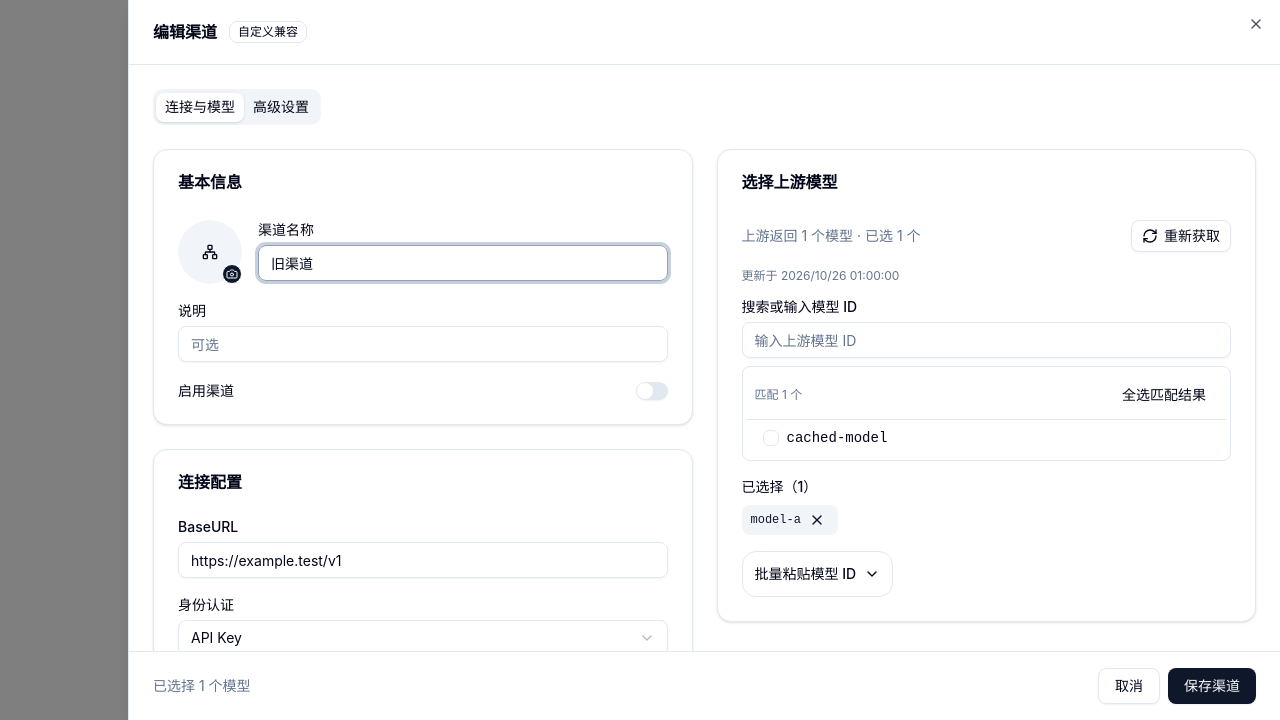
Test: retains cached choices on refresh failure and clears them when credentials change
The image size is (1280, 720).
Click the button "cached-model" at [837, 438], box [746,420,1226,456]
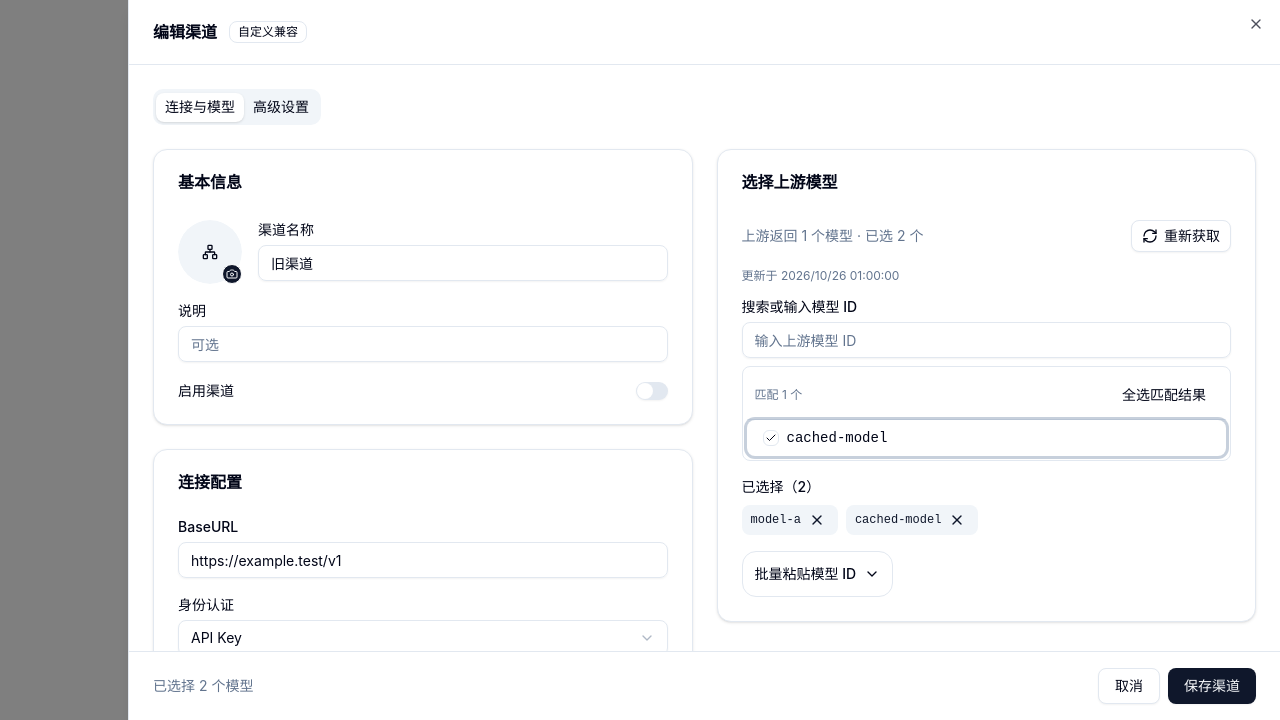
Click the button "重新获取" at [1181, 236], box [1131,220,1231,252]
(page scrolled)
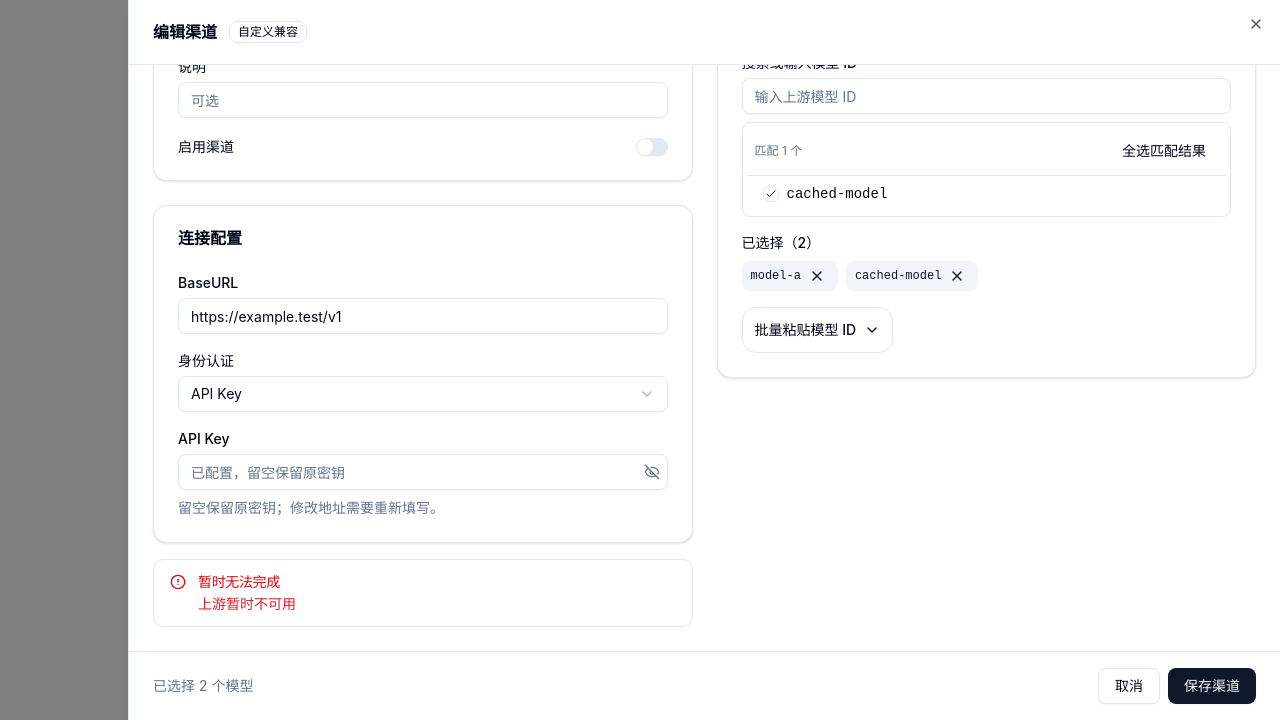
Now the text "上游暂时不可用" is shown, box [198,594,296,614]
Type "new-fixture-key" into the password field labelled "API Key" at [423, 472], box [178,454,668,490]
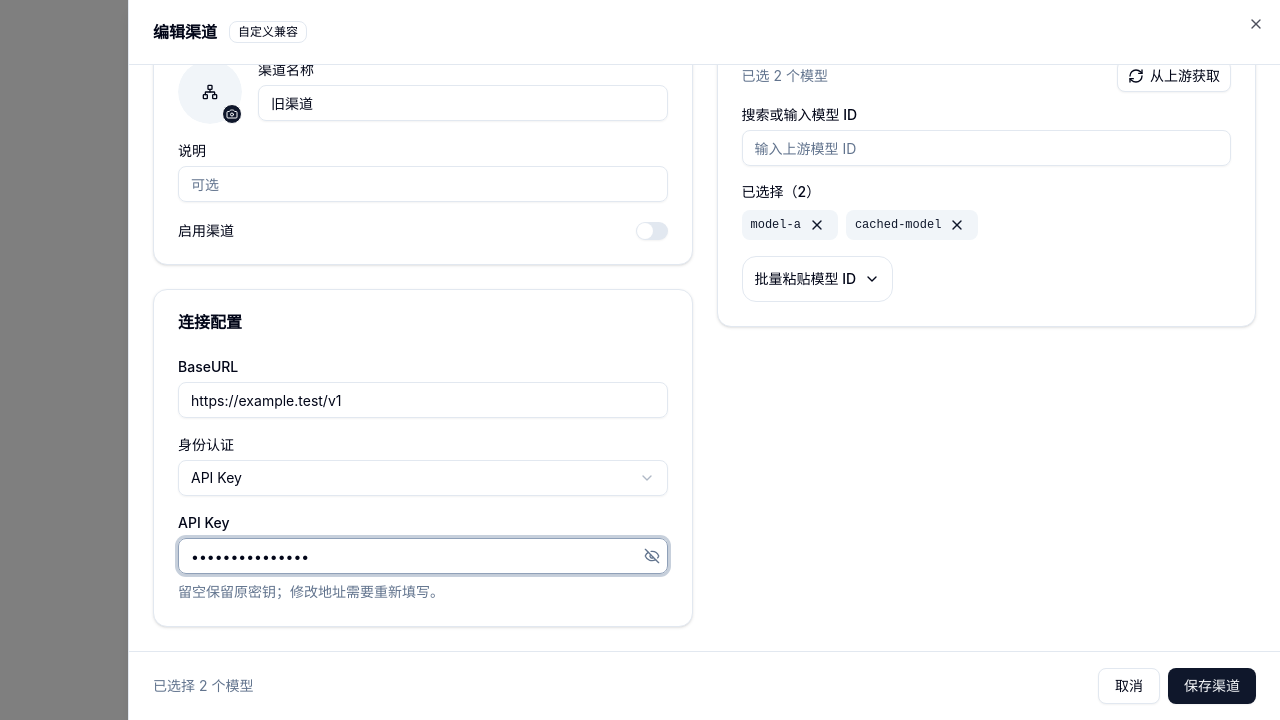
Now the button "从上游获取" is shown, box [1117,65,1231,92]
